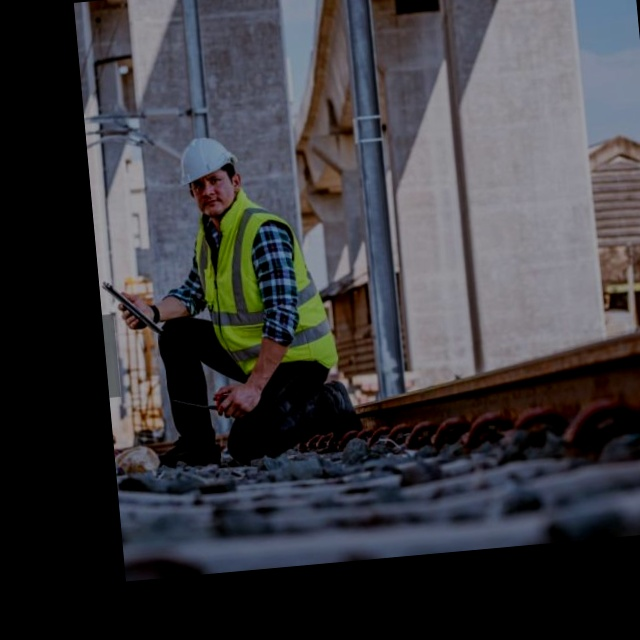Con_Casco: (178, 131, 243, 217)
Con_Chaleco: (186, 203, 332, 390)
